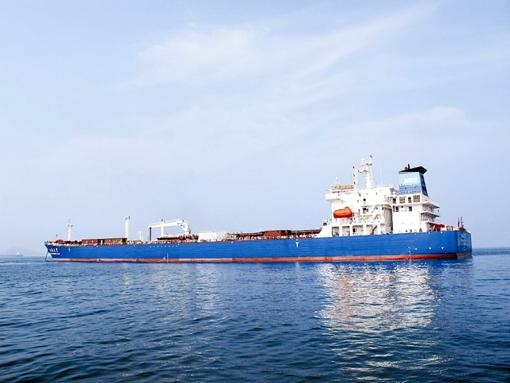Cargoship: (40, 156, 470, 267)
